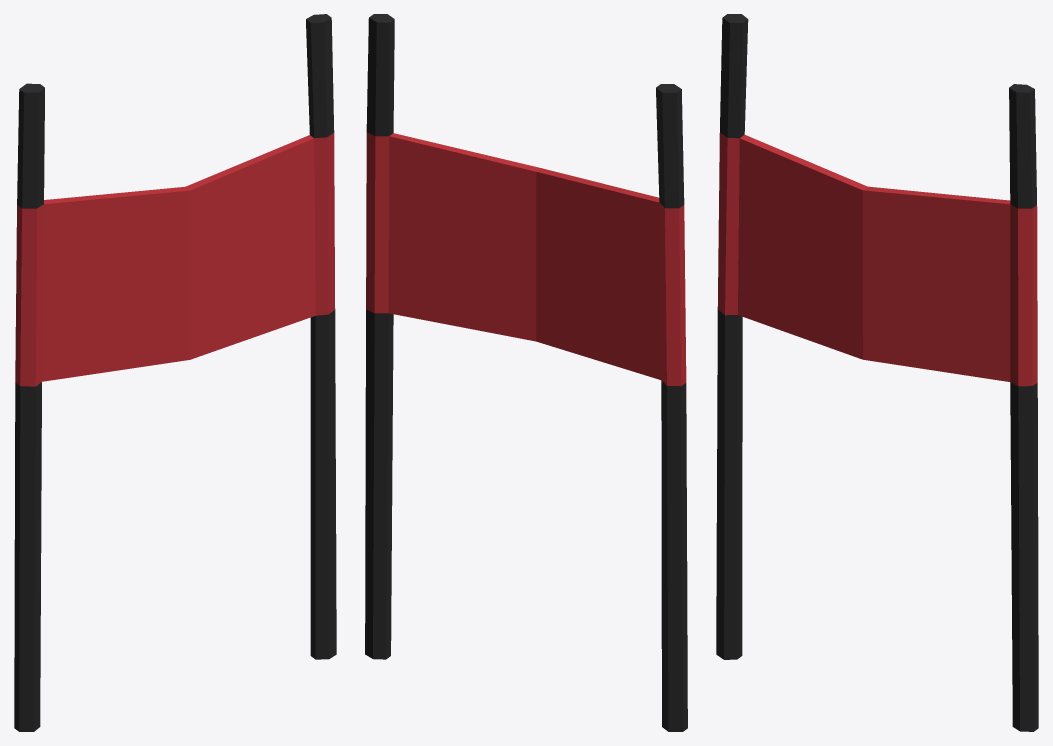
The model's file is sport_ski-flag.fbx.
3 views of the same model, side by side, from view 1: azimuth 30°, elevation 25°; view 2: azimuth 150°, elevation 25°; view 3: azimuth 330°, elevation 25° (orthographic).
Parts seen in each view (by area): view 1: sport_ski_flag; view 2: sport_ski_flag; view 3: sport_ski_flag.
Boxes of the visible parts, box(x1,y1,x2,y2) form: sport_ski_flag: box(14, 14, 336, 731); sport_ski_flag: box(365, 14, 687, 731); sport_ski_flag: box(716, 14, 1038, 731).
Bounding box in the file's own units: 104 × 200 × 12.2.
